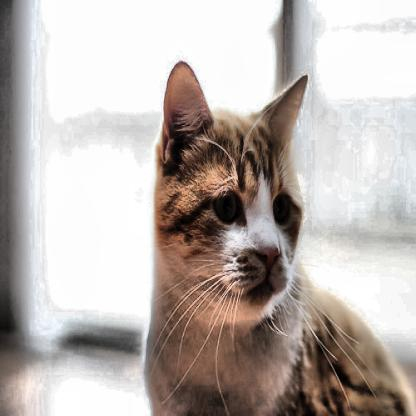cat: (145, 60, 308, 336)
